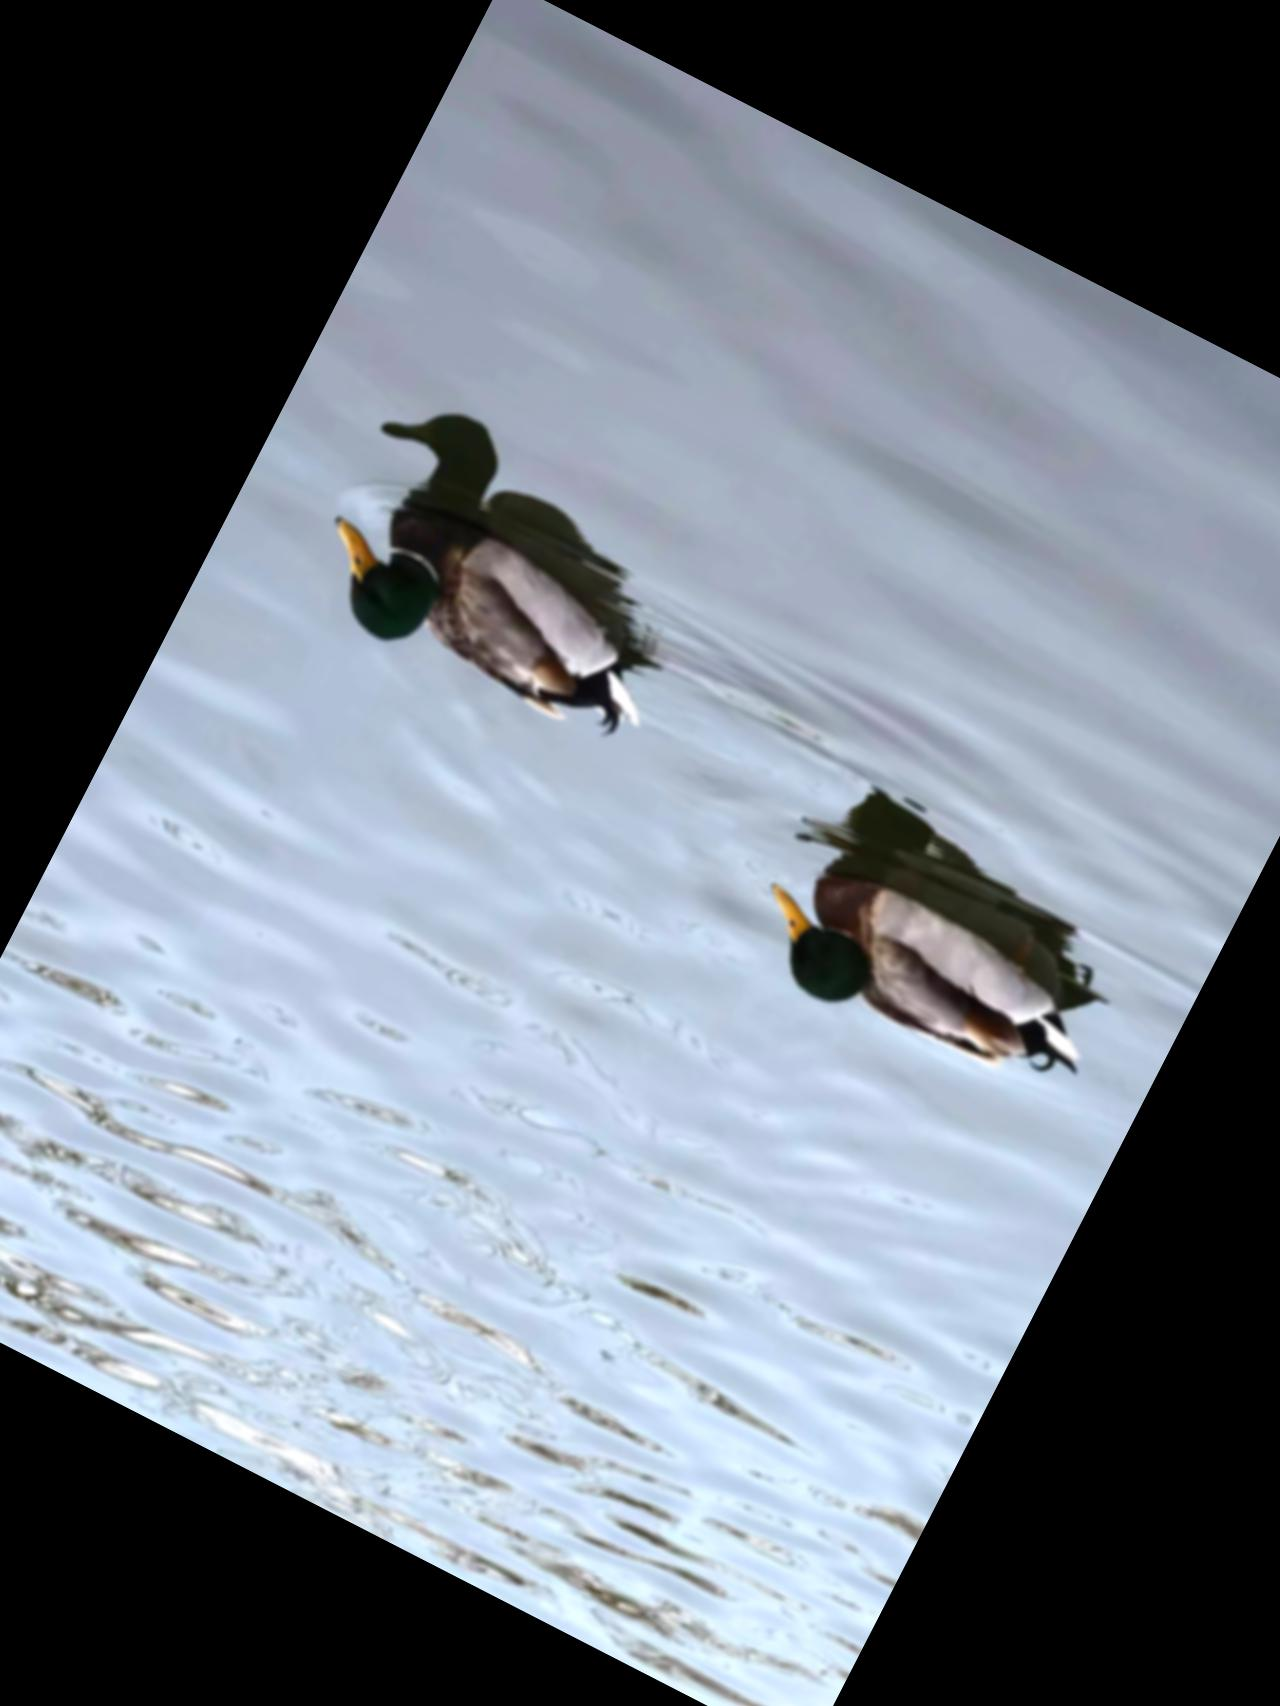duck: (710, 784, 1139, 1144), (281, 457, 701, 793)
